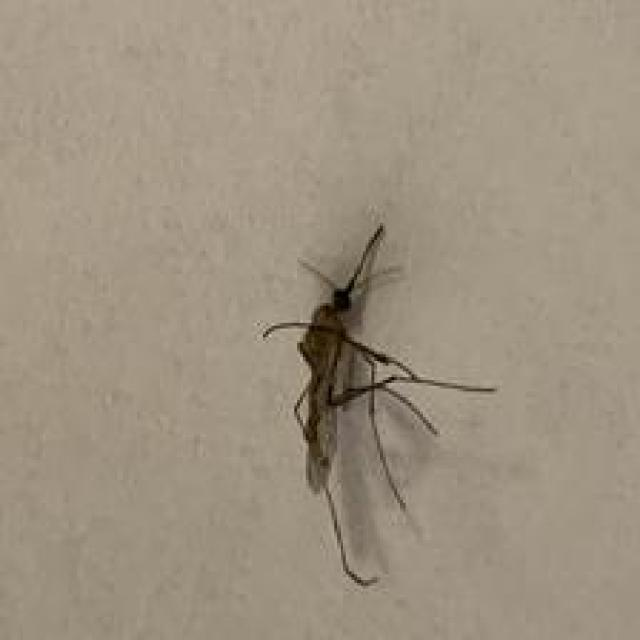Culex: (258, 222, 498, 587)
